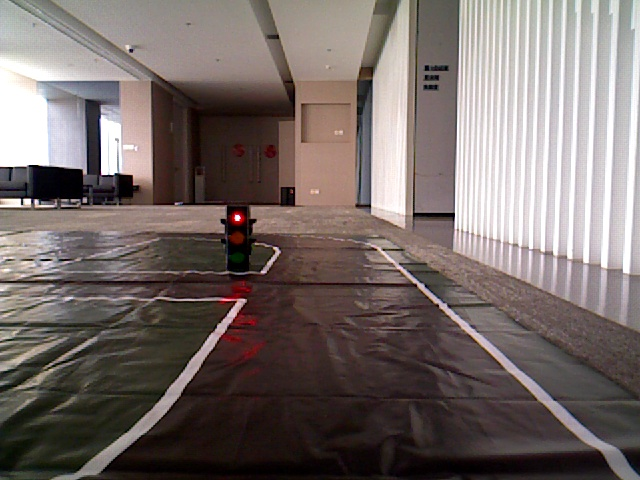red: (225, 208, 249, 259)
